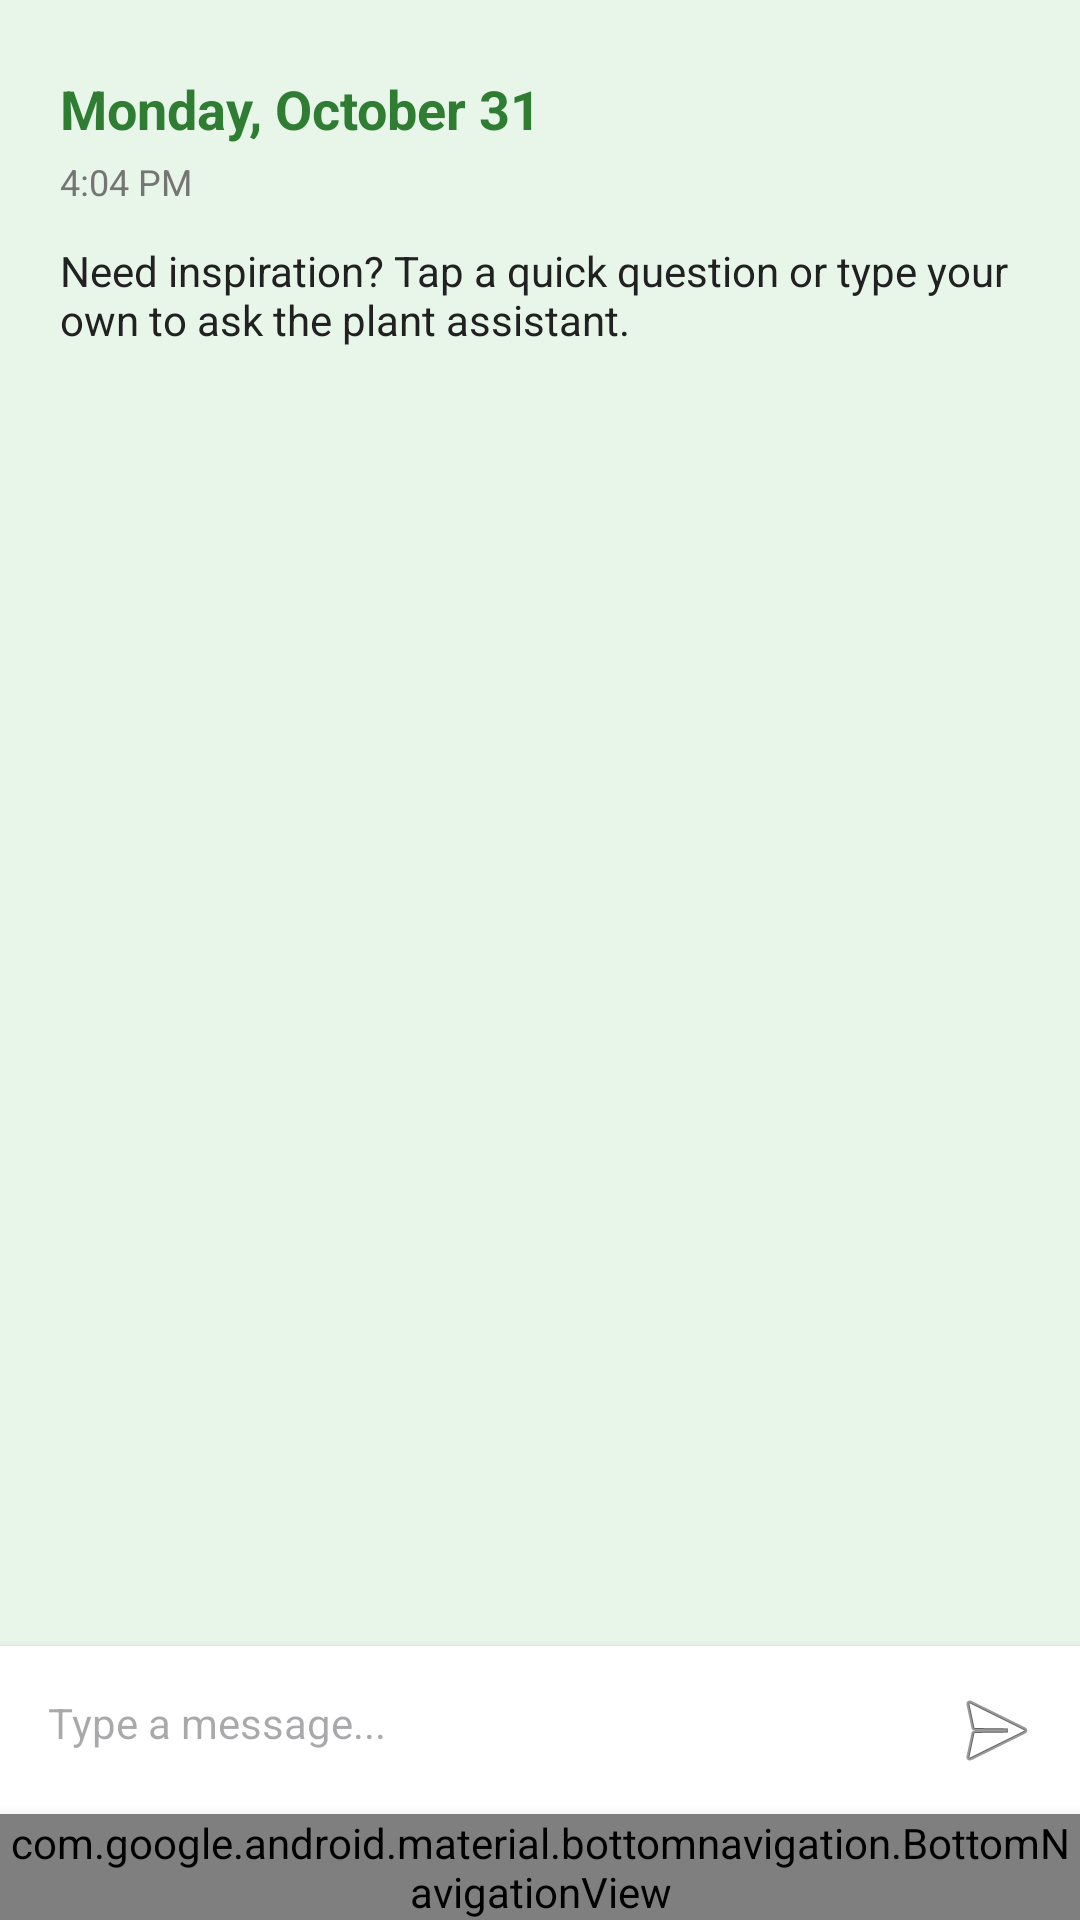

Point at icon controls on the screen. Image size 1080w x 1920h, points as (x=x, y=y).
Send: (x=997, y=1730)
